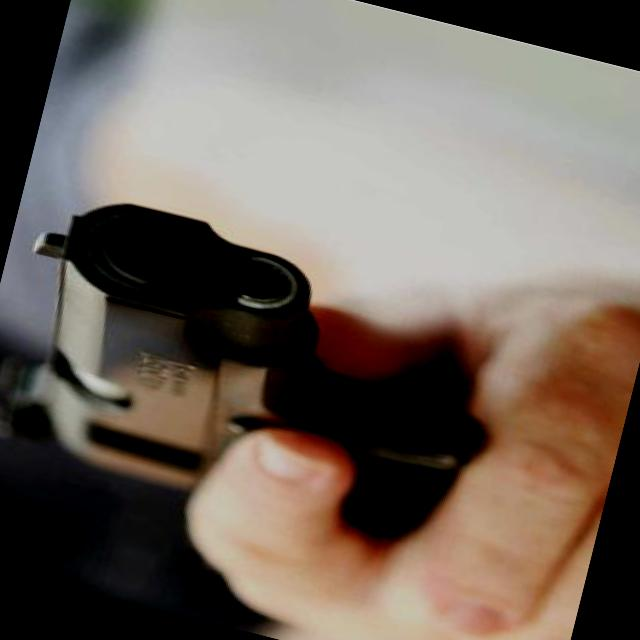handgun: (0, 173, 535, 567)
